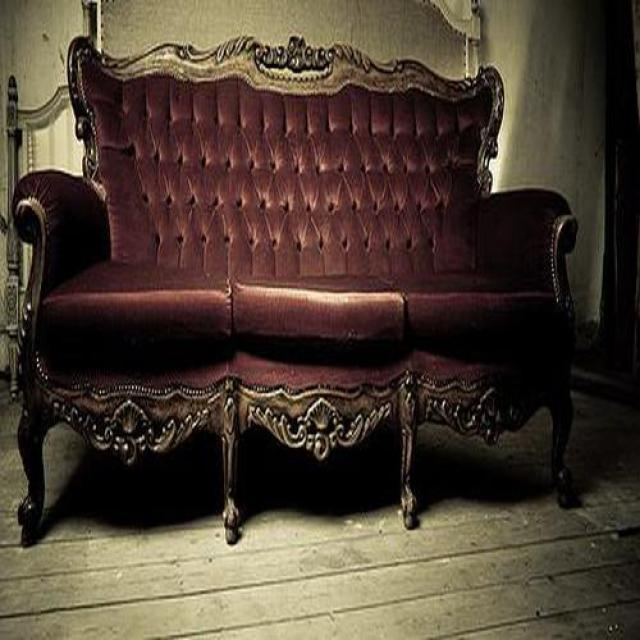sofa: (8, 37, 580, 547)
